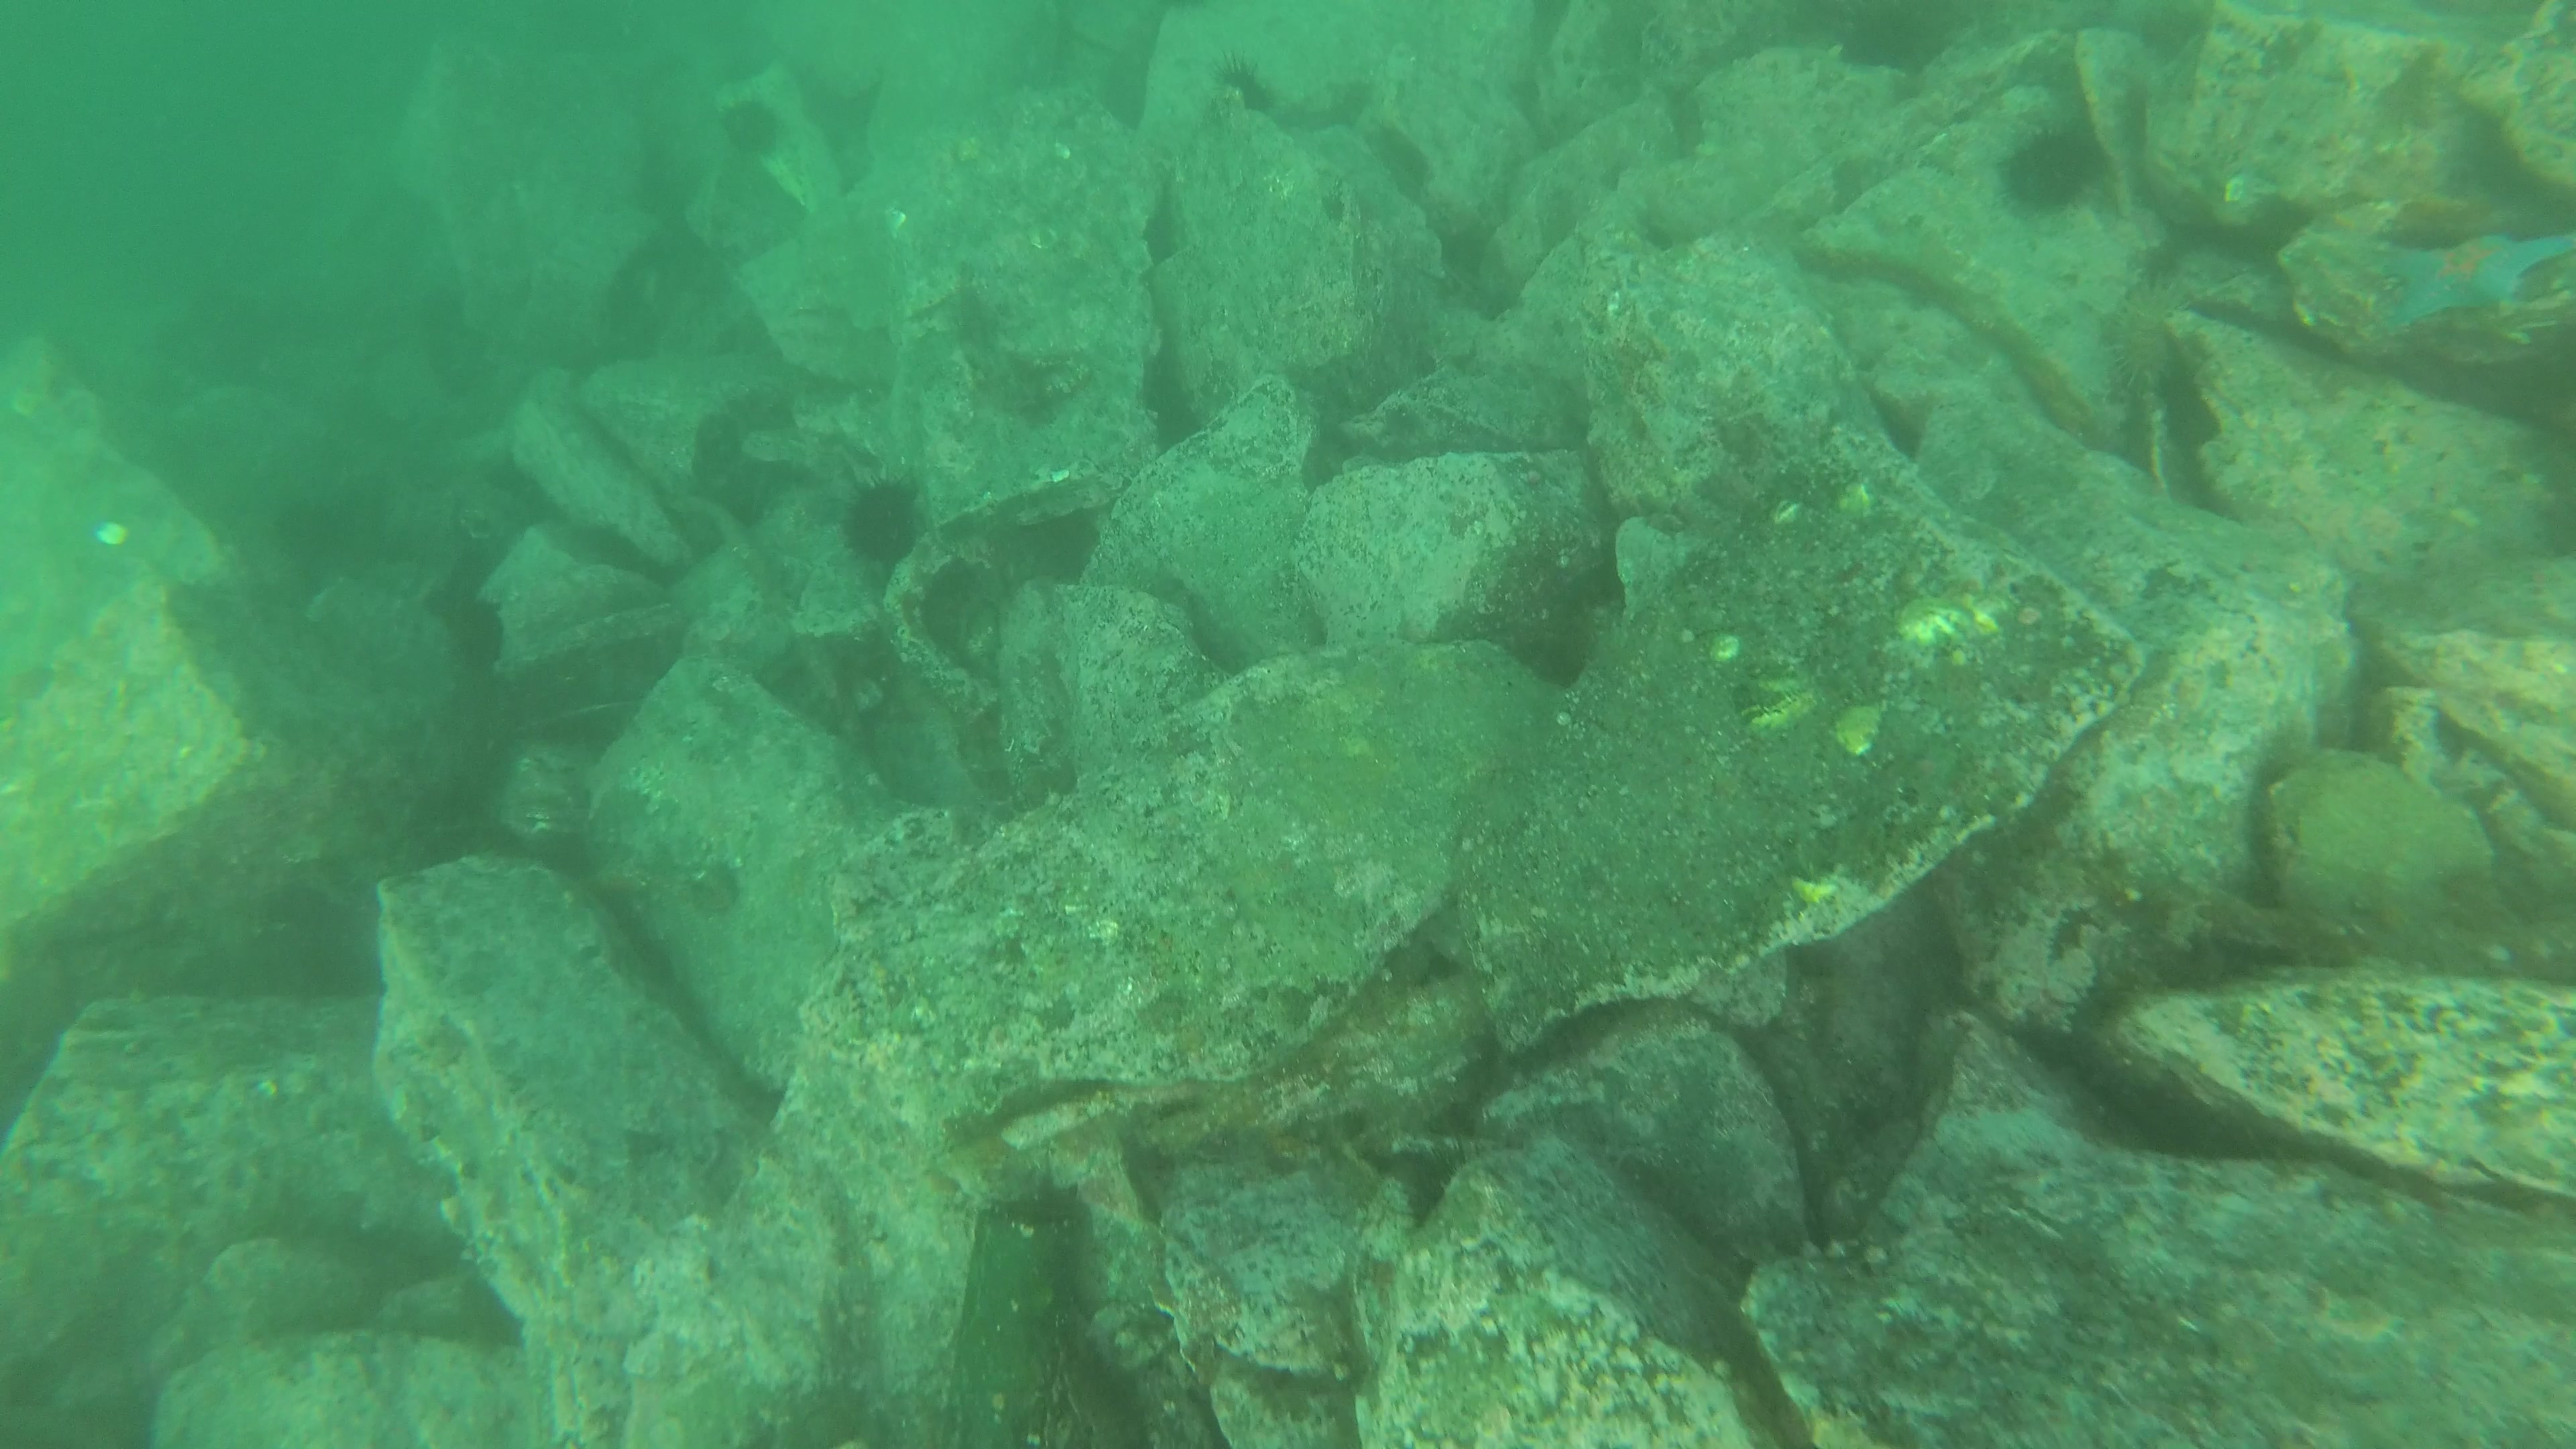echinus: (2104, 264, 2204, 386), (2001, 106, 2107, 207), (828, 474, 931, 557)
starfish: (2373, 216, 2572, 334)
